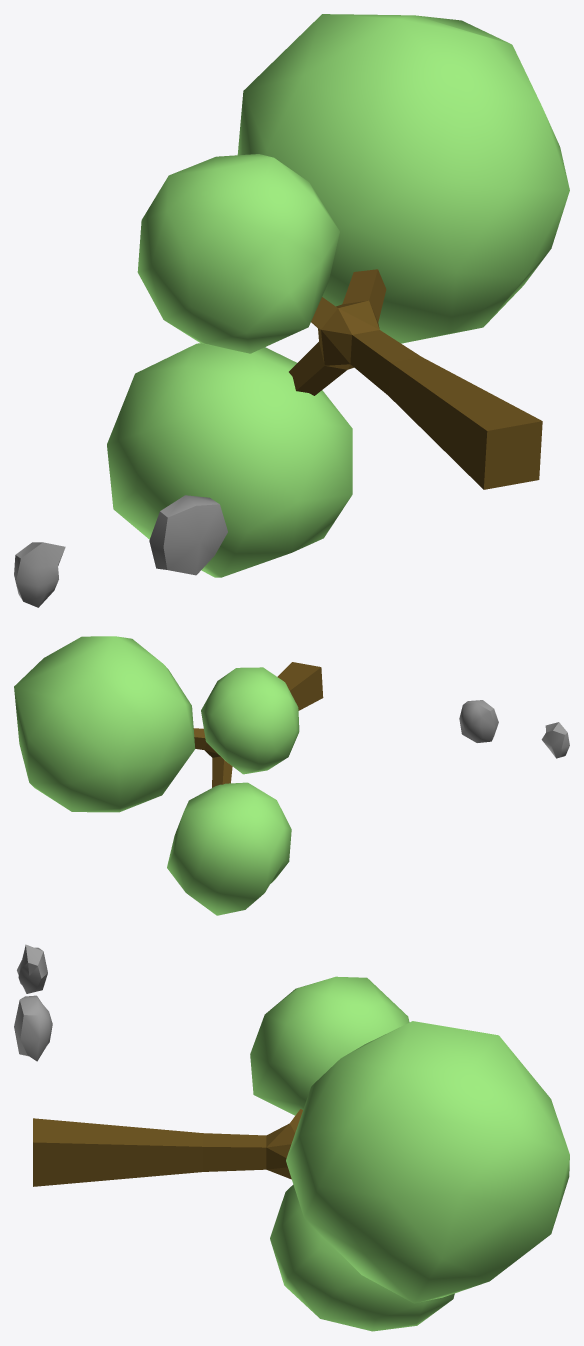
Rendered from Environment.dae.
3 renders of one model, top to bottom at view 1: azimuth 30°, elevation 25°; view 2: azimuth 150°, elevation 25°; view 3: azimuth 270°, elevation 25°, orthographic. The views are drawn at different scales.
Parts seen in each view (by area): view 1: Tree, Rock, Rock.001; view 2: Tree, Rock, Rock.001; view 3: Tree, Rock, Rock.001.
Boxes of the visible parts, box(x1,y1,x2,y2) form: Tree: box(107, 14, 569, 577); Rock: box(149, 495, 227, 575); Rock.001: box(14, 542, 65, 607); Tree: box(14, 636, 323, 915); Rock: box(459, 700, 498, 742); Rock.001: box(541, 722, 569, 758); Tree: box(33, 976, 569, 1331); Rock: box(14, 995, 52, 1061); Rock.001: box(17, 944, 47, 993).
Bounding box in the file's own units: 2.88 × 2.23 × 1.68.
